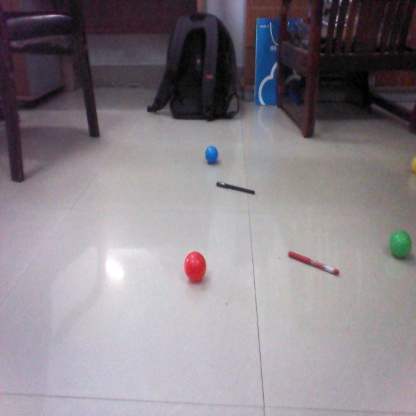ball: (182, 249, 210, 284), (391, 229, 415, 259), (204, 147, 222, 162)
pen: (290, 252, 341, 274), (215, 181, 256, 193)
